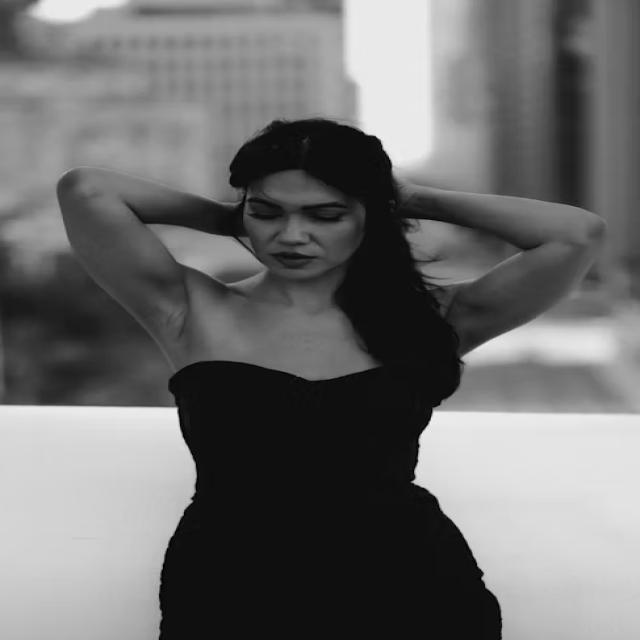Edited images: (47, 111, 618, 640)
